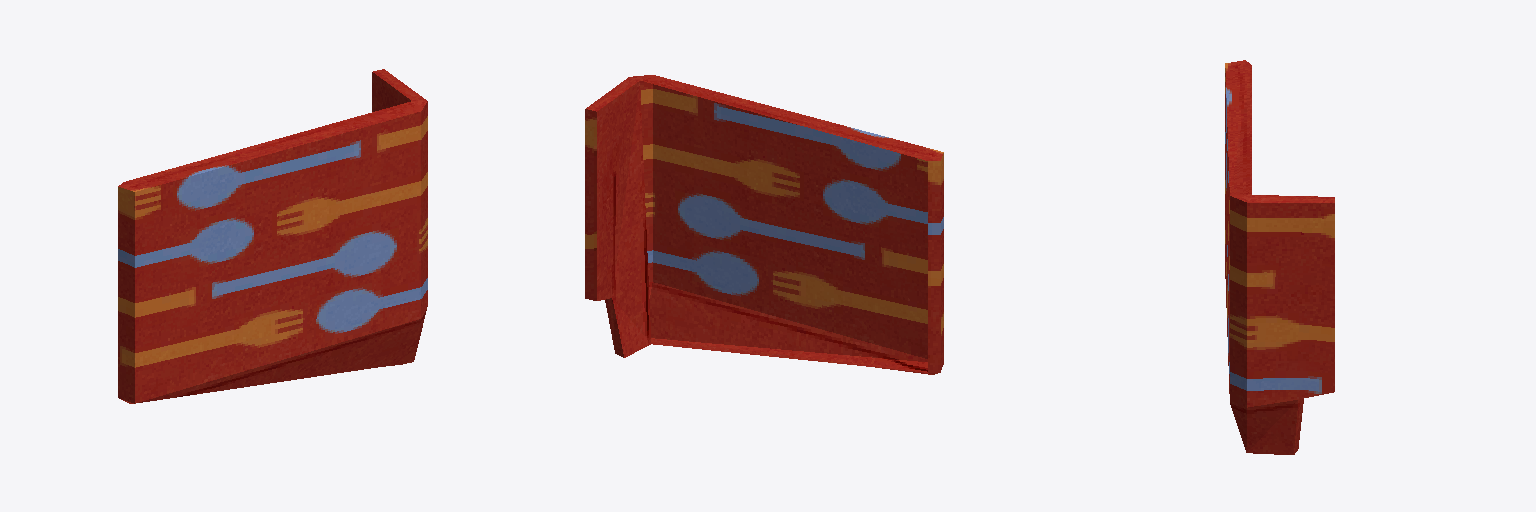
3 renders of one model, left to right at view 1: azimuth 30°, elevation 25°; view 2: azimuth 150°, elevation 25°; view 3: azimuth 270°, elevation 25°, orthographic.
Parts seen in each view (by area): view 1: mtl_nt_2020_towel_kitchen_01; view 2: mtl_nt_2020_towel_kitchen_01; view 3: mtl_nt_2020_towel_kitchen_01.
Boxes of the visible parts, x1=… form: mtl_nt_2020_towel_kitchen_01: x1=118, y1=69, x2=427, y2=403; mtl_nt_2020_towel_kitchen_01: x1=585, y1=75, x2=943, y2=374; mtl_nt_2020_towel_kitchen_01: x1=1225, y1=60, x2=1334, y2=454.
Bounding box in the file's own units: 78.67 × 63.16 × 23.97.
1 materials, 1 textured.